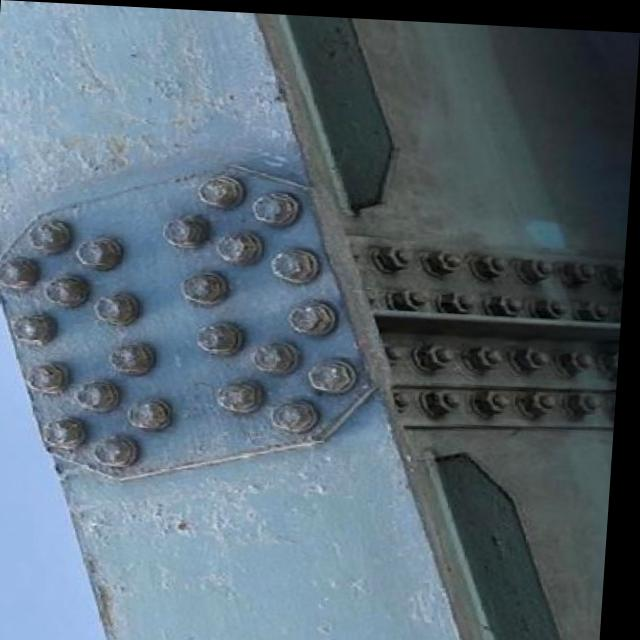Regular bolt: (414, 332, 462, 373), (375, 233, 421, 275), (466, 334, 514, 374), (568, 380, 612, 422), (424, 380, 472, 418), (520, 382, 567, 420), (517, 336, 561, 374), (477, 382, 521, 417), (475, 240, 513, 278), (426, 236, 467, 269), (394, 277, 433, 311), (442, 281, 478, 316), (489, 283, 526, 317), (563, 344, 603, 373), (521, 252, 561, 279), (540, 284, 572, 317), (583, 292, 616, 320), (574, 249, 601, 276)
